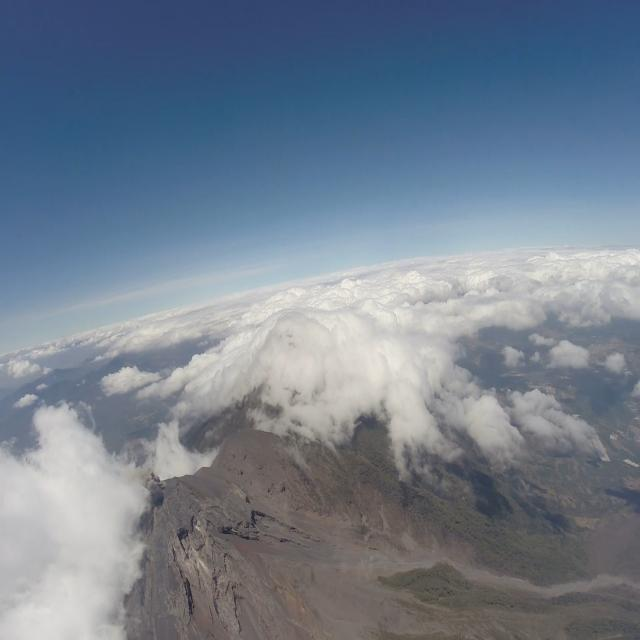Plume: (128, 456, 164, 500)
Summit: (112, 459, 254, 640)
